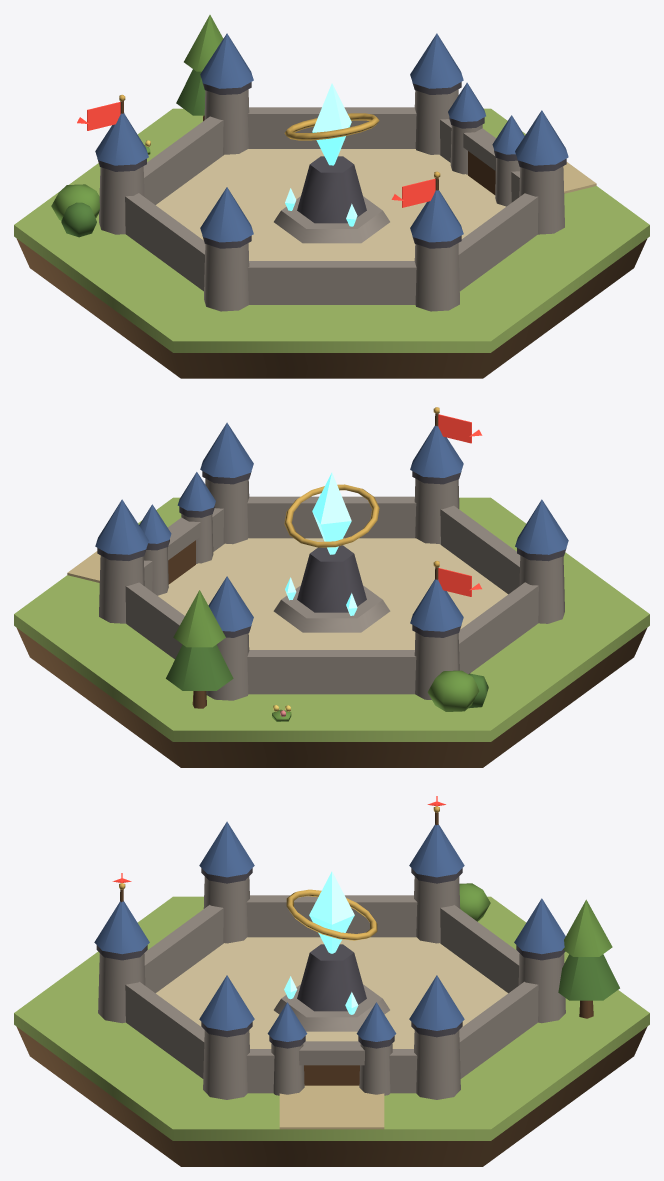
File: tile_base_hex.glb
3 renders of one model, top to bottom at view 1: azimuth 30°, elevation 25°; view 2: azimuth 150°, elevation 25°; view 3: azimuth 270°, elevation 25°, orthographic.
Visible parts, largest first — view 1: ground, courtyard, ground_soil, wall_3, wall_0, wall_2, wall_4, wall_1, beacon_pedestal, tower_3_body, tower_4_body, beacon_step (+25 smaller); view 2: ground, courtyard, ground_soil, wall_1, wall_4, wall_2, wall_3, beacon_pedestal, beacon_step, wall_0, deco_tree_0_crown, tower_0_body (+24 smaller); view 3: ground, courtyard, ground_soil, wall_2, road, wall_0, wall_4, wall_1, wall_3, beacon_pedestal, tower_0_body, tower_5_body (+24 smaller).
Part boxes in pixels (bbox=[...]): ground: bbox=[14, 108, 649, 352]; courtyard: bbox=[156, 149, 505, 260]; ground_soil: bbox=[17, 239, 646, 378]; wall_3: bbox=[247, 261, 416, 304]; wall_0: bbox=[247, 107, 416, 148]; wall_2: bbox=[125, 193, 205, 291]; wall_4: bbox=[458, 193, 538, 291]; wall_1: bbox=[143, 116, 223, 204]; beacon_pedestal: bbox=[297, 156, 366, 223]; tower_3_body: bbox=[204, 243, 249, 311]; tower_4_body: bbox=[414, 243, 459, 311]; beacon_step: bbox=[274, 196, 389, 243]; ground: bbox=[14, 497, 649, 741]; courtyard: bbox=[158, 538, 507, 649]; ground_soil: bbox=[17, 628, 646, 767]; wall_1: bbox=[247, 650, 416, 694]; wall_4: bbox=[247, 496, 416, 538]; wall_2: bbox=[458, 582, 538, 673]; wall_3: bbox=[440, 505, 520, 594]; beacon_pedestal: bbox=[297, 545, 366, 612]; beacon_step: bbox=[273, 585, 390, 632]; wall_0: bbox=[125, 582, 184, 659]; deco_tree_0_crown: bbox=[166, 644, 233, 690]; tower_0_body: bbox=[99, 555, 144, 623]; ground: bbox=[14, 896, 649, 1140]; courtyard: bbox=[156, 937, 507, 1048]; ground_soil: bbox=[16, 1026, 647, 1166]; wall_2: bbox=[246, 895, 417, 937]; road: bbox=[279, 1085, 384, 1129]; wall_0: bbox=[459, 981, 538, 1078]; wall_4: bbox=[125, 981, 204, 1078]; wall_1: bbox=[440, 905, 519, 993]; wall_3: bbox=[144, 905, 223, 993]; beacon_pedestal: bbox=[297, 944, 366, 1011]; tower_0_body: bbox=[414, 1030, 460, 1099]; tower_5_body: bbox=[203, 1030, 249, 1099].
Bounding box in the file's own units: 1.73 × 0.643 × 2.
